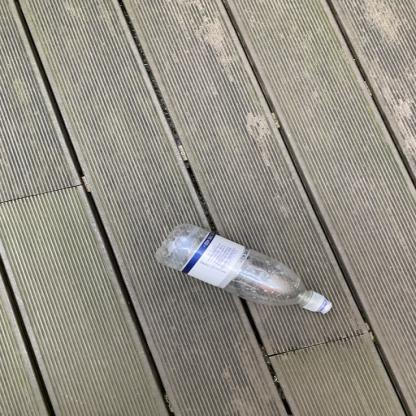trash: (153, 224, 333, 314)
